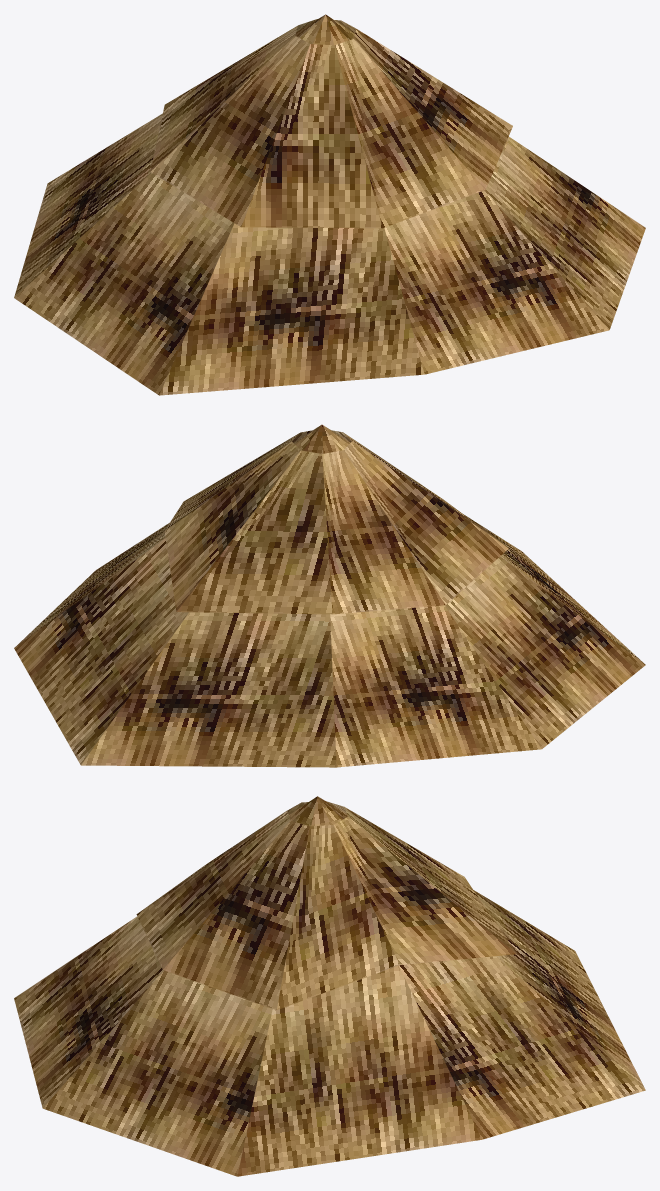
Rendered from cao_dui.fbx.
The picture shows the model from 3 angles, top to bottom: view 1: azimuth 30°, elevation 25°; view 2: azimuth 150°, elevation 25°; view 3: azimuth 270°, elevation 25°; orthographic projection. The views are drawn at different scales.
Visible parts, largest first — view 1: polySurface15; view 2: polySurface15; view 3: polySurface15.
Part boxes in pixels (x1,y1,x2,y2): polySurface15: (14,14,645,395); polySurface15: (14,424,645,767); polySurface15: (14,796,645,1176).
Bounding box in the file's own units: 3.79 × 1.7 × 3.84.
